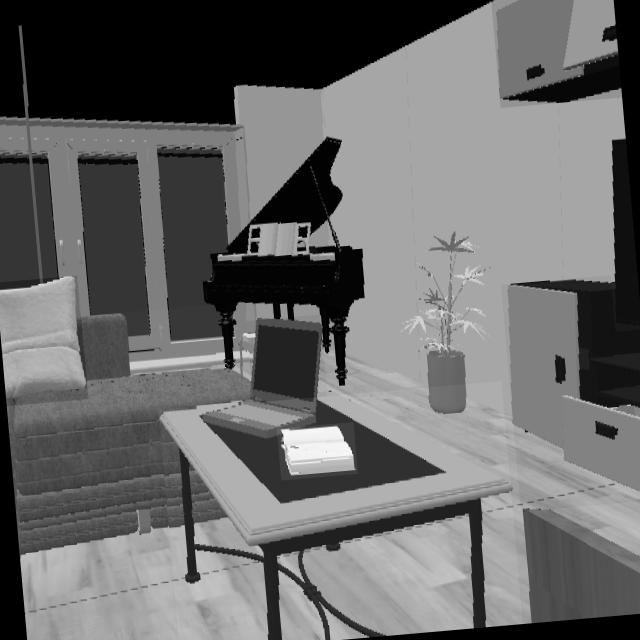book: (278, 425, 357, 478)
cabinet: (506, 279, 640, 493), (496, 0, 621, 103)
laptop: (207, 320, 323, 436)
monitor: (611, 138, 640, 329)
pillow: (0, 277, 87, 406)
sofa: (6, 316, 251, 556)
table: (159, 401, 510, 640)
